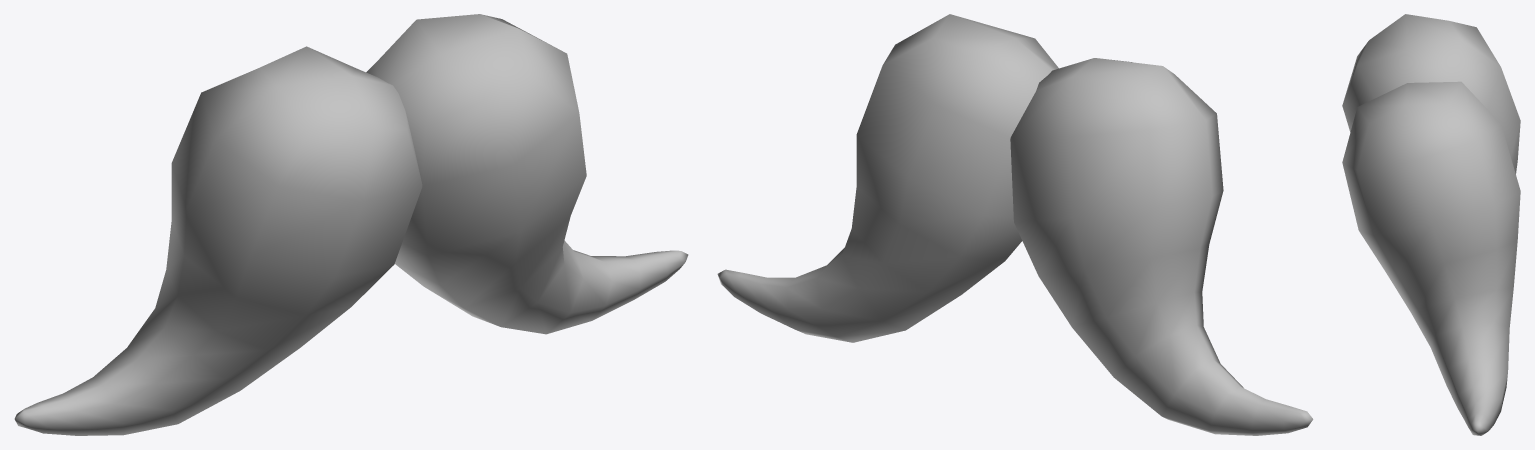
File: Mustache_White_009.glb
3 renders of one model, left to right at view 1: azimuth 30°, elevation 25°; view 2: azimuth 150°, elevation 25°; view 3: azimuth 270°, elevation 25°, orthographic. The views are drawn at different scales.
Parts seen in each view (by area): view 1: Mustache_White_009; view 2: Mustache_White_009; view 3: Mustache_White_009.
Part boxes in pixels (x1,y1,x2,y2): Mustache_White_009: (14,14,688,435); Mustache_White_009: (717,14,1313,435); Mustache_White_009: (1342,14,1520,435).
Bounding box in the file's own units: 0.2322 × 0.1157 × 0.0686.
Materials: 1 (1 with a texture image).
